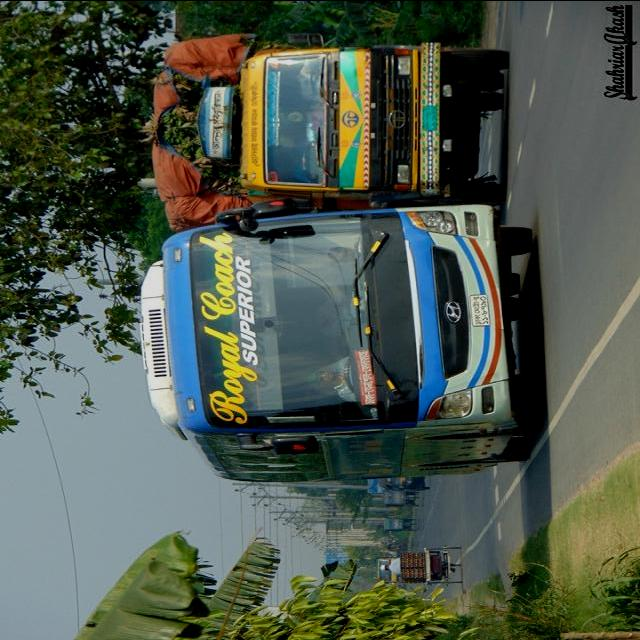bus: (140, 196, 546, 486)
